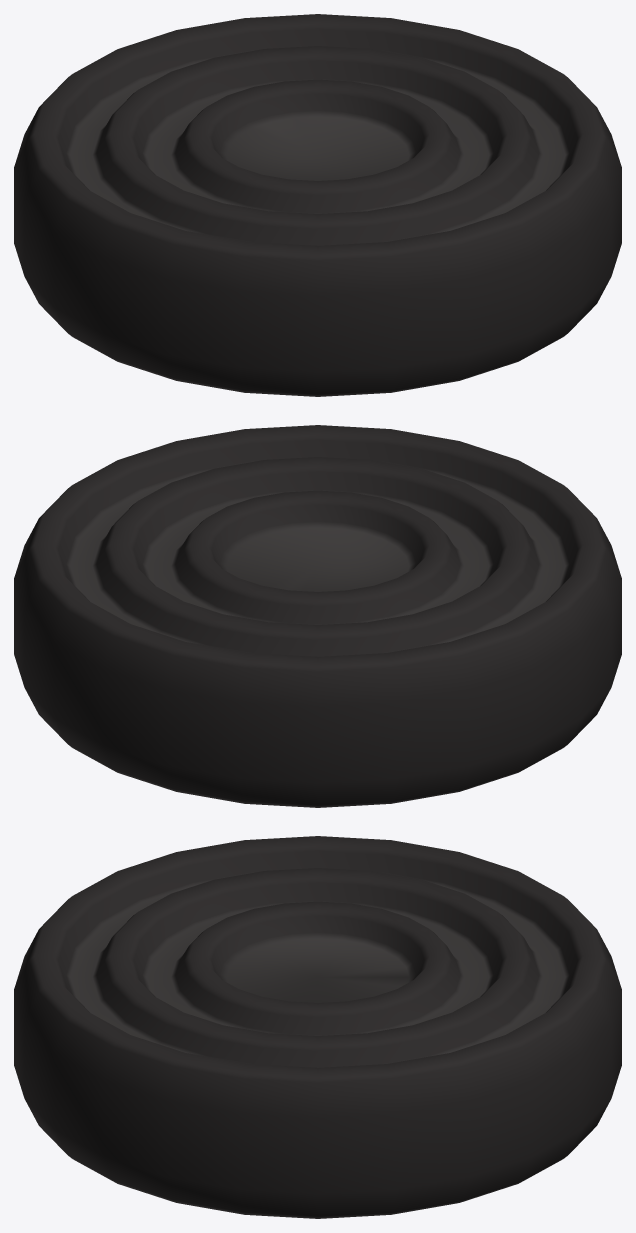
Rendered from Checker_Piece_Black_01.glb.
3 views of the same model, one above another, from view 1: azimuth 30°, elevation 25°; view 2: azimuth 150°, elevation 25°; view 3: azimuth 270°, elevation 25° (orthographic).
Visible parts, largest first — view 1: Checker_Piece_Black_01; view 2: Checker_Piece_Black_01; view 3: Checker_Piece_Black_01.
Boxes of the visible parts, x1,y1,x2,y2 form: Checker_Piece_Black_01: (14, 14, 621, 396); Checker_Piece_Black_01: (14, 425, 621, 807); Checker_Piece_Black_01: (14, 836, 621, 1218).
Bounding box in the file's own units: 0.0388 × 0.0105 × 0.0388.
2 materials, 2 textured.
